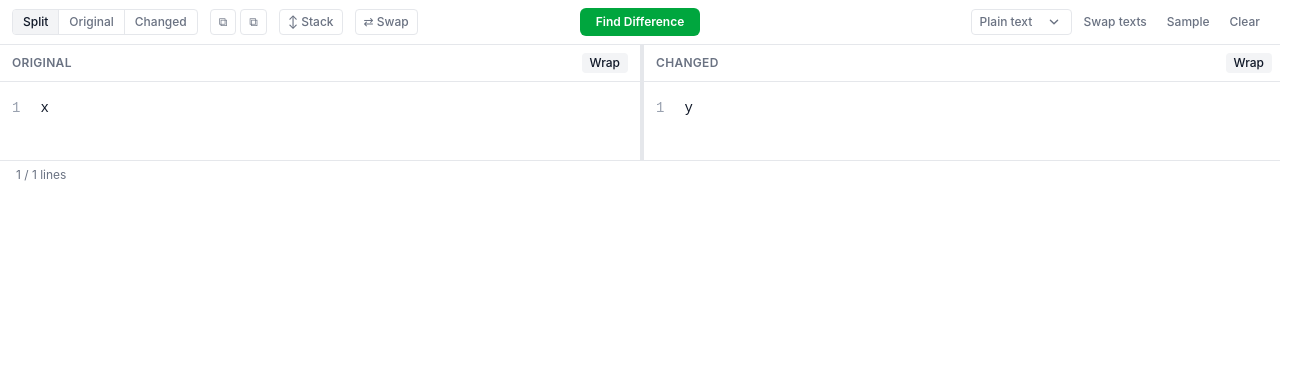
Test case: DiffChecker › loads sample content, swaps panes, and clears back to edit mode
Click the button "Sample". click: (1188, 22)
box: [1159, 10, 1218, 34]
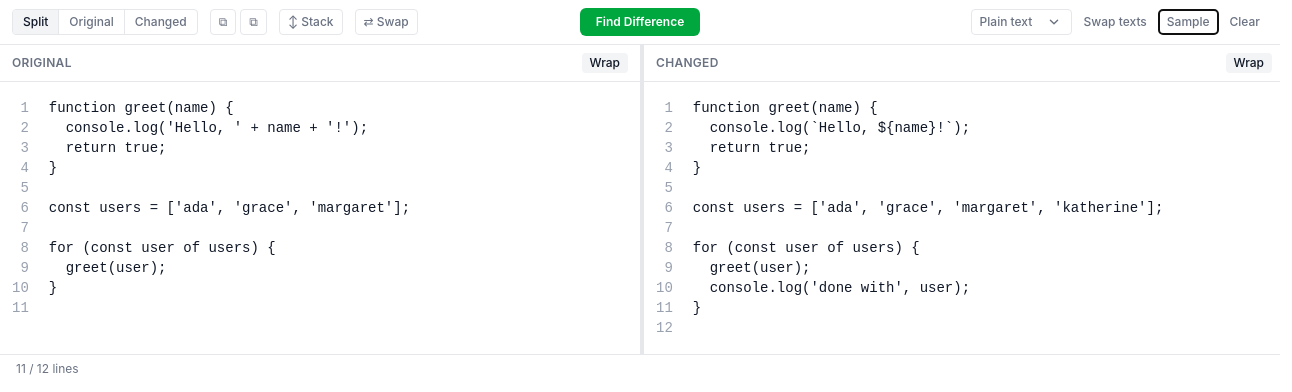
Click the button "Swap texts". click: (1115, 22)
box: [1076, 10, 1155, 34]
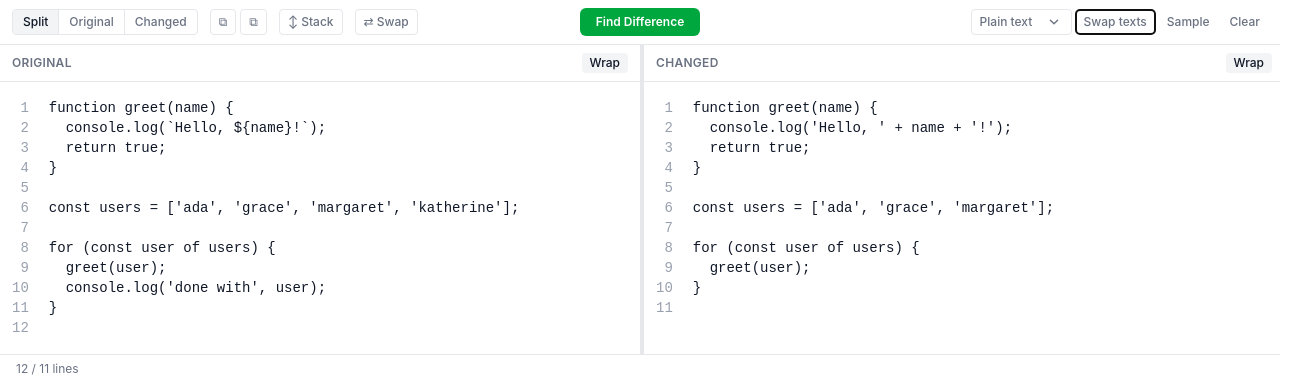
Click the button "Clear". click: (1245, 22)
box: [1222, 10, 1268, 34]
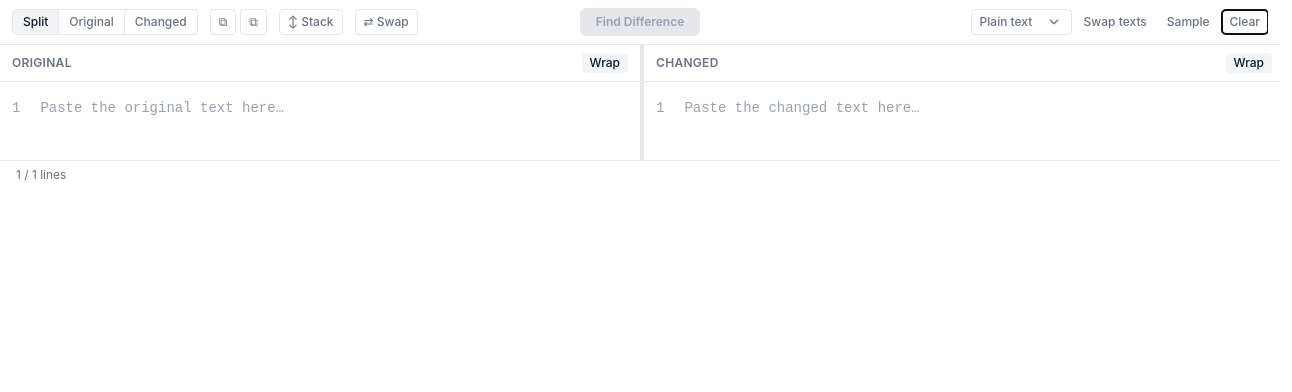
Expected: the text box with placeholder "Paste the original text here…" is empty, [28, 82, 640, 160]
